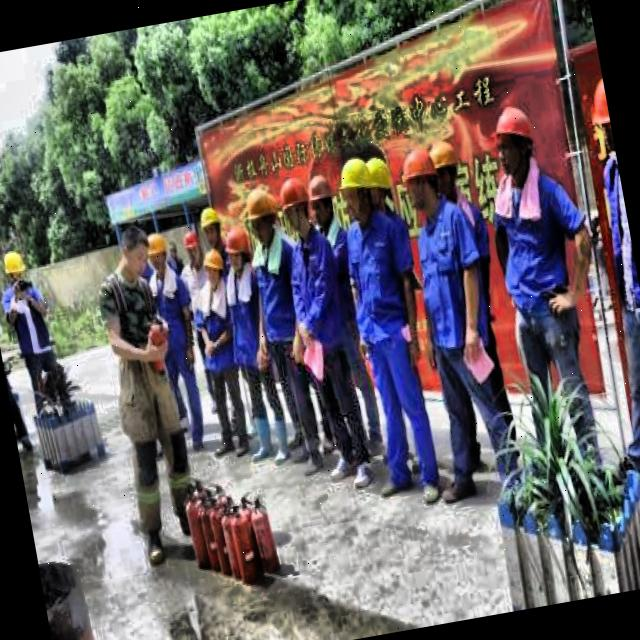helmet: (486, 98, 540, 184), (332, 149, 380, 229), (396, 144, 442, 222), (585, 74, 616, 168), (239, 181, 283, 247), (424, 135, 464, 205), (274, 175, 316, 241), (364, 151, 398, 216), (305, 171, 338, 232), (220, 221, 254, 275), (140, 230, 172, 276), (199, 242, 228, 288), (0, 247, 30, 289), (195, 203, 222, 248), (180, 230, 203, 270)
